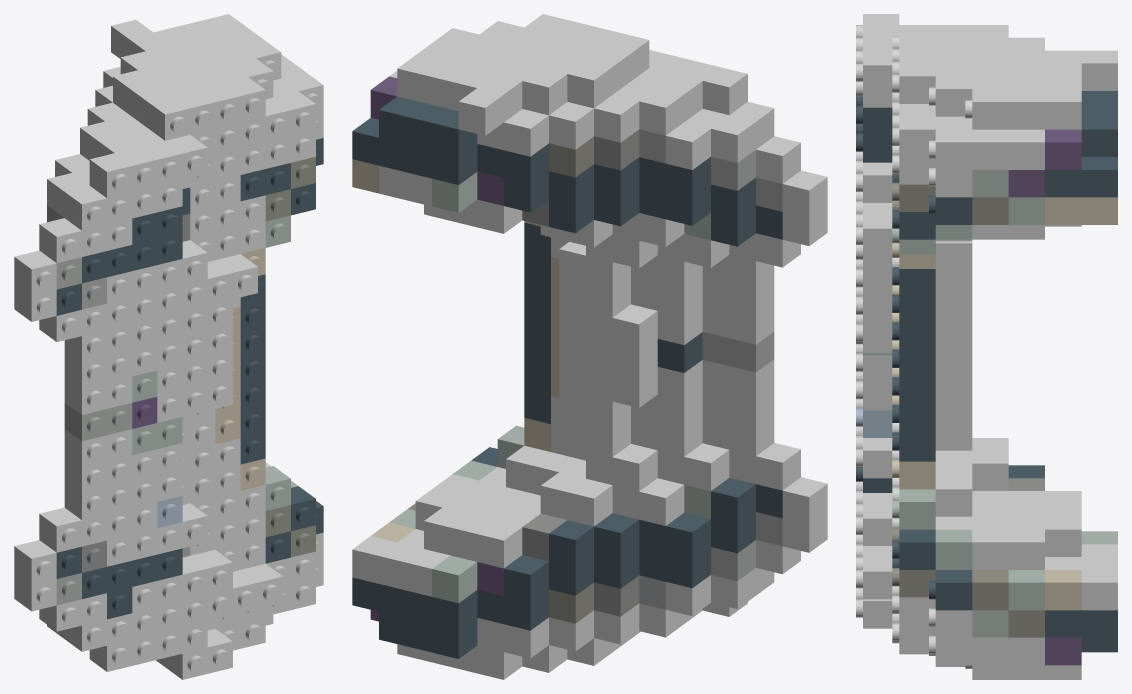
File: full.glb
3 renders of one model, left to right at view 1: azimuth 30°, elevation 25°; view 2: azimuth 150°, elevation 25°; view 3: azimuth 270°, elevation 25°, orthographic. The views are drawn at different scales.
Visible parts, largest first — view 1: world; view 2: world; view 3: world.
Part boxes in pixels (x1,y1,x2,y2): world: [14, 14, 323, 679]; world: [352, 14, 827, 679]; world: [856, 14, 1117, 679].
Size of the model in its own units: 104 by 168 by 69.
